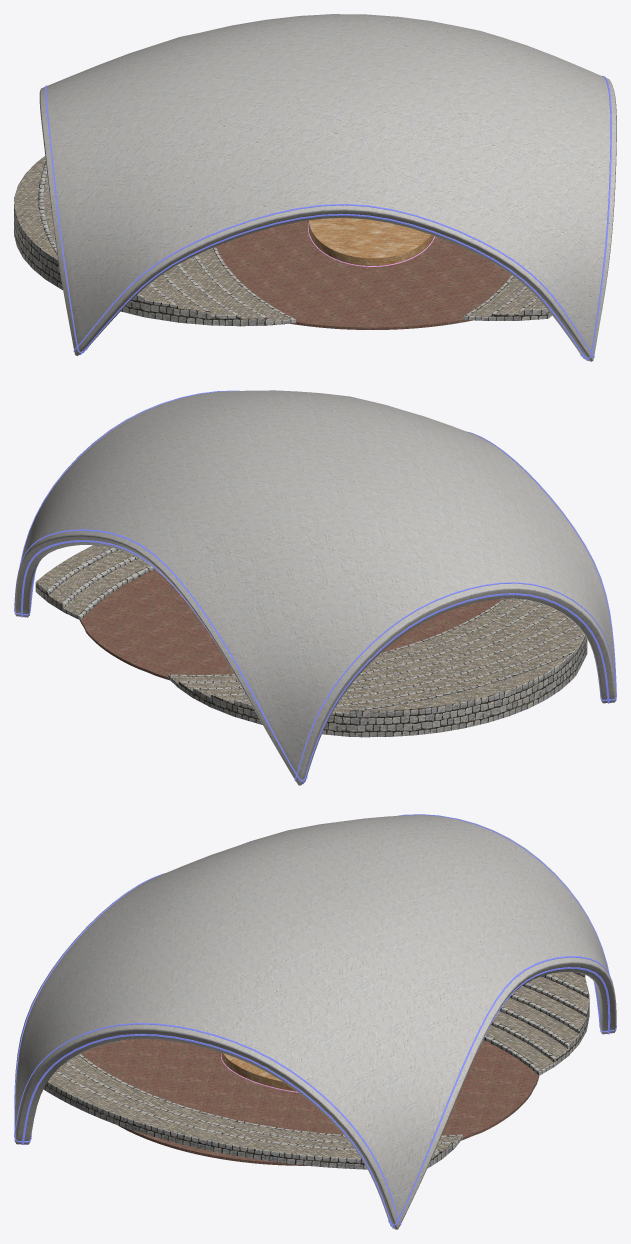
Rendered from BeachStage.glb.
The picture shows the model from 3 angles, top to bottom: view 1: azimuth 30°, elevation 25°; view 2: azimuth 150°, elevation 25°; view 3: azimuth 270°, elevation 25°; orthographic projection. The views are drawn at different scales.
Parts seen in each view (by area): view 1: SetA, RoofBorderLights; view 2: SetA, RoofBorderLights; view 3: SetA, RoofBorderLights.
Boxes of the visible parts, x1,y1,x2,y2 form: SetA: (14, 14, 616, 361); RoofBorderLights: (45, 75, 611, 360); SetA: (14, 390, 616, 785); RoofBorderLights: (14, 390, 616, 783); SetA: (14, 815, 616, 1229); RoofBorderLights: (14, 814, 616, 1228).
Size of what is drawn, in the model's own units: 28.7 by 10.66 by 26.71.
Materials: 7 (5 with a texture image).
